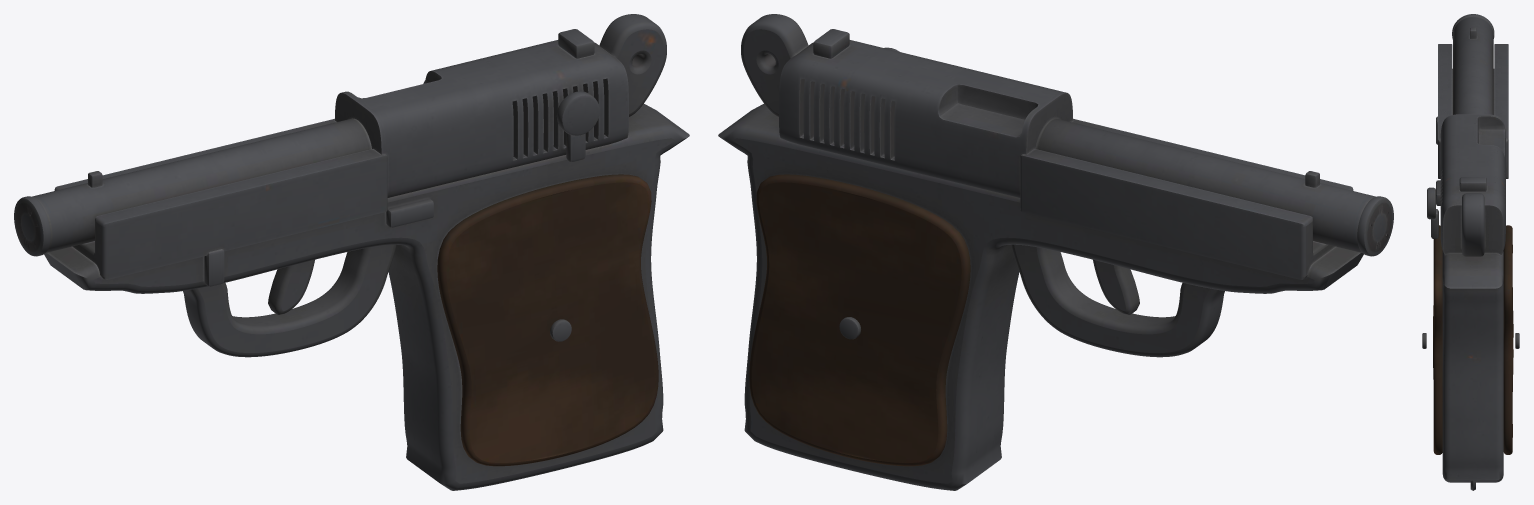
The model's file is walther_p38.glb.
The picture shows the model from 3 angles, left to right: view 1: azimuth 30°, elevation 25°; view 2: azimuth 150°, elevation 25°; view 3: azimuth 270°, elevation 25°; orthographic projection. The views are drawn at different scales.
Visible parts, largest first — view 1: walther_p38; view 2: walther_p38; view 3: walther_p38.
Part boxes in pixels (x1=…): walther_p38: x1=14, y1=14, x2=689, y2=490; walther_p38: x1=718, y1=14, x2=1393, y2=490; walther_p38: x1=1422, y1=14, x2=1519, y2=490.
Size of the model in its own units: 0.2305 by 0.1452 by 0.0432.
Materials: 1 (1 with a texture image).
